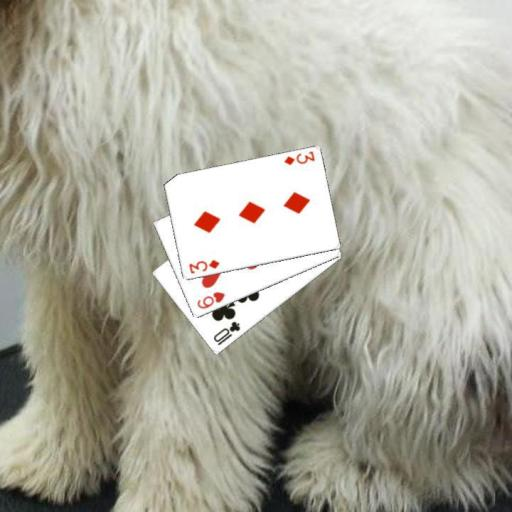10C: (210, 319, 242, 347)
3D: (280, 148, 316, 166), (186, 257, 221, 275)
6H: (194, 289, 226, 311)
